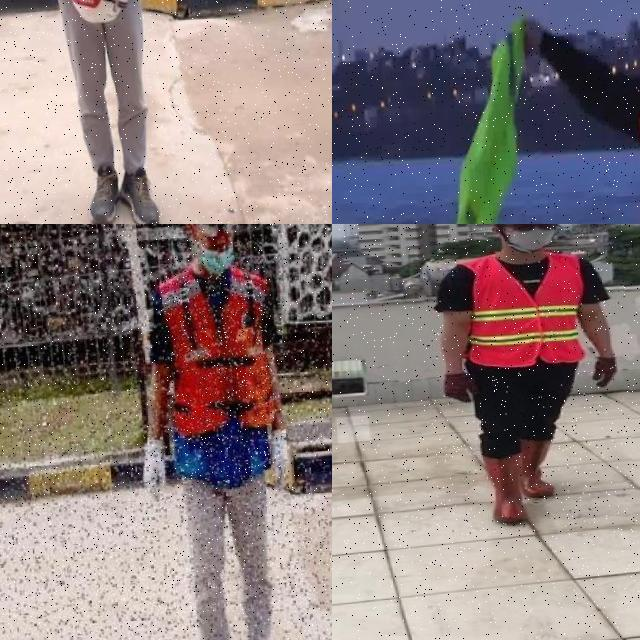boots: (480, 452, 530, 526), (117, 161, 164, 224), (519, 440, 558, 501), (85, 161, 121, 224)
helmet: (68, 0, 132, 26)
vest: (161, 266, 281, 486), (462, 254, 584, 370)
